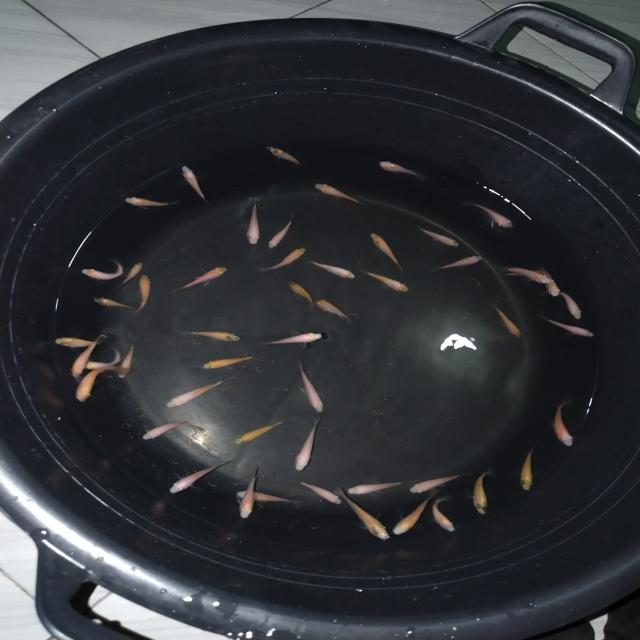nila: (329, 486, 392, 544), (289, 414, 340, 470), (164, 458, 237, 494), (160, 376, 234, 409), (390, 493, 438, 539), (75, 365, 128, 406), (232, 416, 299, 448), (294, 362, 334, 414), (236, 468, 268, 522), (366, 230, 408, 270), (466, 201, 520, 231), (490, 302, 528, 344), (174, 263, 229, 292), (230, 484, 302, 506), (258, 244, 318, 270), (140, 421, 208, 443), (307, 180, 368, 204), (466, 466, 493, 520), (68, 334, 100, 379), (428, 254, 488, 277), (363, 268, 414, 294), (378, 157, 430, 182), (179, 162, 209, 205), (309, 258, 358, 284), (552, 400, 576, 452), (410, 470, 466, 492), (300, 476, 342, 505), (556, 284, 588, 322), (415, 222, 461, 248), (264, 329, 330, 347), (80, 349, 124, 376), (514, 444, 537, 494), (196, 353, 259, 371), (503, 264, 556, 285), (343, 478, 404, 496), (431, 498, 461, 534), (76, 258, 124, 280), (88, 294, 140, 314), (262, 144, 305, 168), (534, 264, 564, 298), (546, 320, 596, 340), (119, 194, 181, 210), (184, 328, 247, 343), (114, 344, 142, 377), (268, 215, 294, 250), (311, 298, 356, 318), (244, 202, 262, 250), (288, 278, 318, 306), (51, 334, 111, 348), (117, 258, 146, 286), (138, 272, 152, 314)
